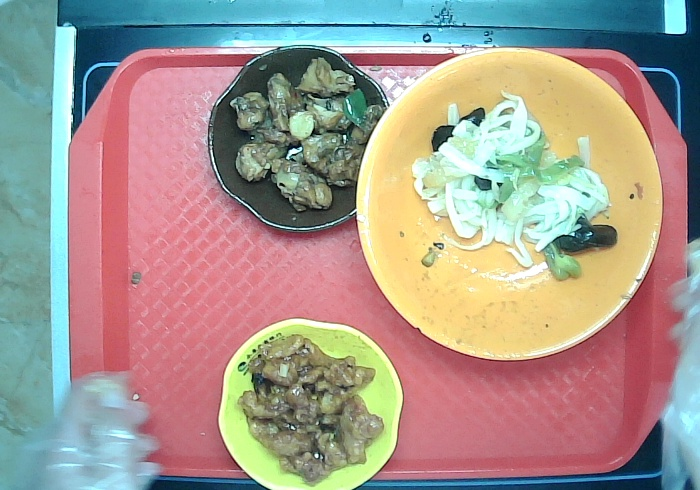YKMZ-Huang_Se_Ao_Bian_Wan: (219, 319, 405, 490)
YKMZ-Ju_Se_Tang_Wan: (352, 48, 662, 360)
YKMZ-Ka_Fei_Ao_Bian_Wan: (209, 44, 395, 234)
